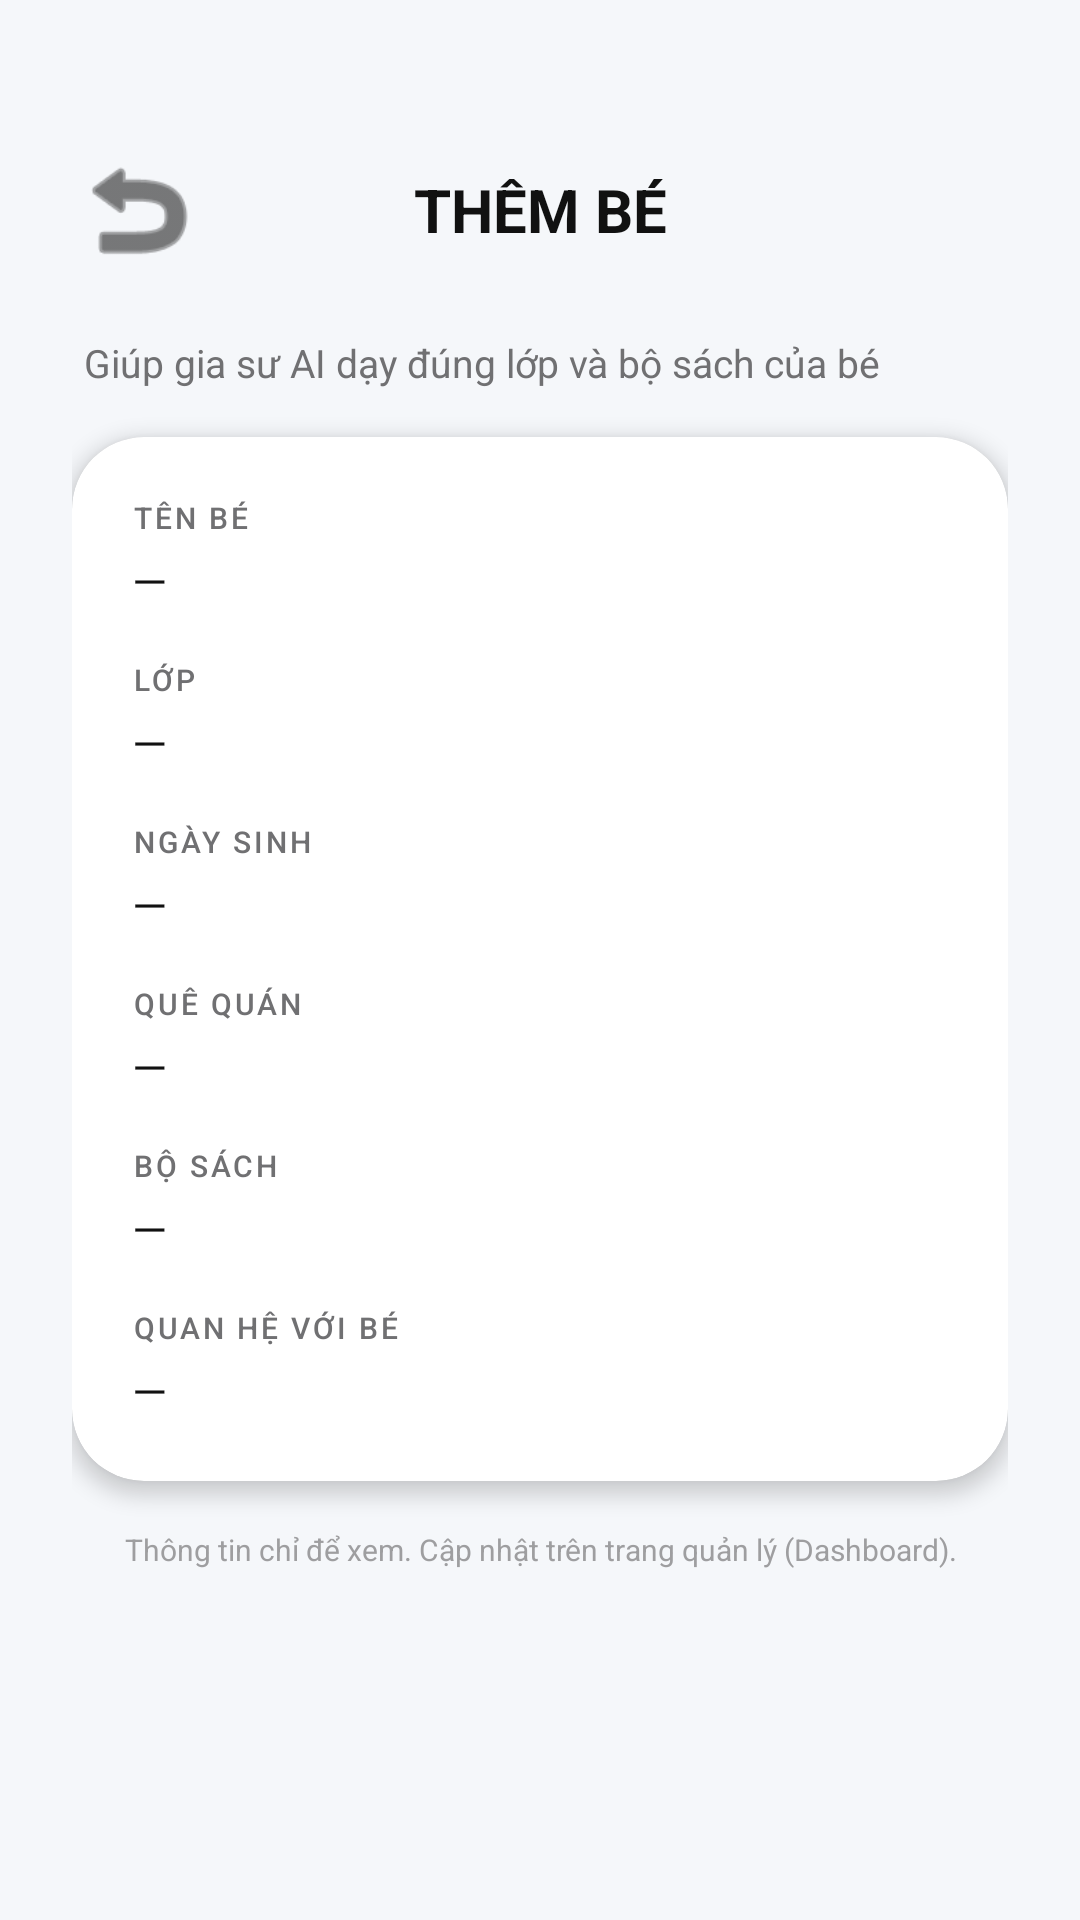

Icons on this 1080px x 1920px Android screen, each with its box as (x1, y1, x2, y2):
Quay lại: (92, 168, 187, 254)
